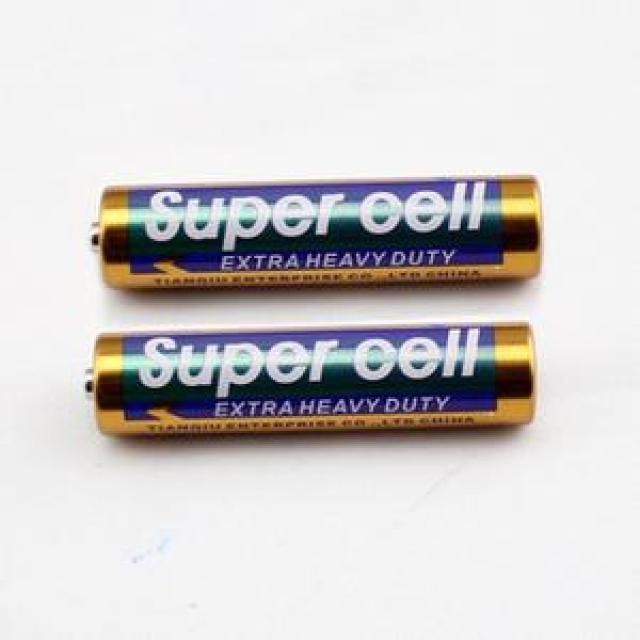-Recyclables - plastic bottle-: (90, 170, 542, 292), (85, 320, 541, 439)
